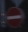No entry: (5, 6, 23, 27)
